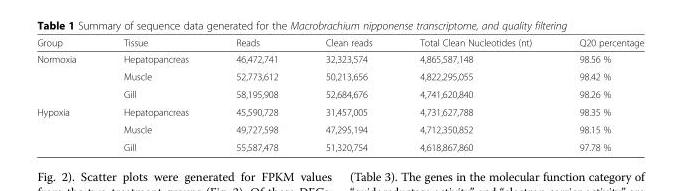table: (36, 36, 643, 152)
table column: (395, 36, 554, 152), (99, 36, 211, 152), (301, 36, 395, 152), (211, 36, 301, 152), (554, 36, 643, 152), (36, 36, 99, 152)
table column header: (36, 36, 643, 50)
table row: (36, 67, 643, 85), (36, 102, 643, 120), (36, 120, 643, 138), (36, 50, 643, 67), (36, 85, 643, 102), (36, 36, 643, 50), (36, 138, 643, 152)
table spanning cell: (36, 50, 99, 102), (36, 102, 99, 152)
